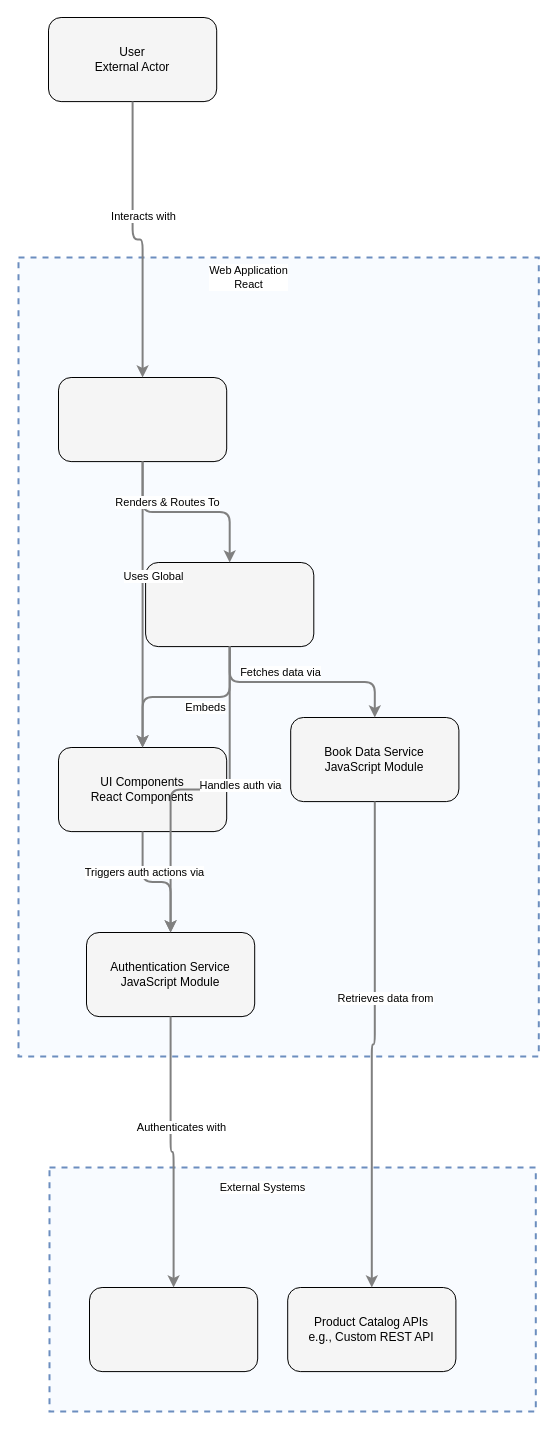
This 557x1430 diagram has some shape labels left out. Here are the shapes that lost their labels. From the top down, the centre of each, then its label:
[142,419]: Main Application JavaScript
[229,604]: Page Components React Components
[173,1329]: Identity Provider APIs e.g., OAuth, Firebase Auth
